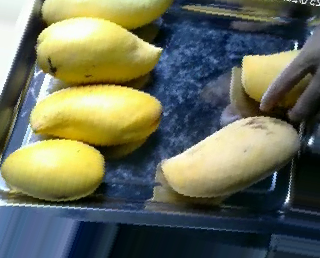Mango: (162, 116, 299, 198), (35, 16, 160, 85), (28, 85, 161, 145), (0, 139, 105, 200), (240, 48, 314, 106), (40, 0, 170, 29)
